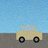vehicle: (16, 25, 42, 42)
